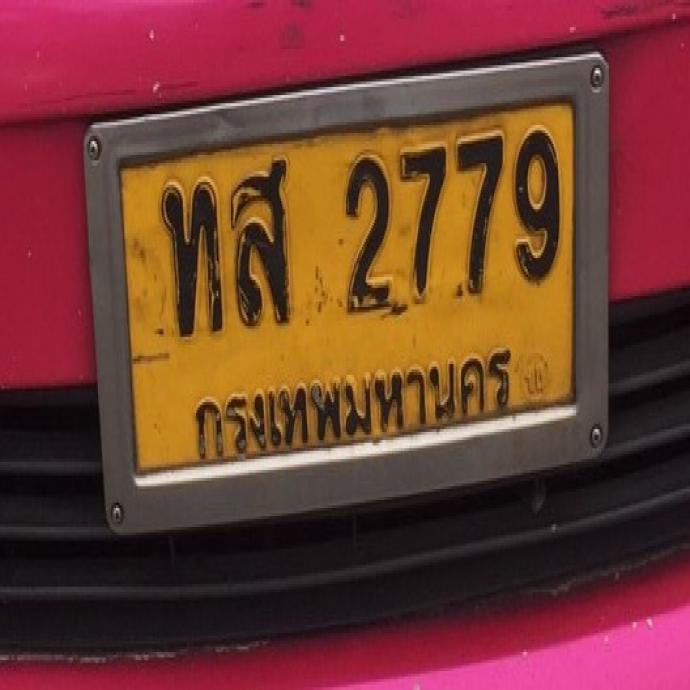2: (337, 153, 393, 314)
7: (452, 134, 507, 297), (395, 144, 447, 299)
9: (508, 127, 563, 286)
A23: (156, 178, 225, 336)
A40: (223, 154, 293, 326)
BKK: (180, 344, 522, 470)
